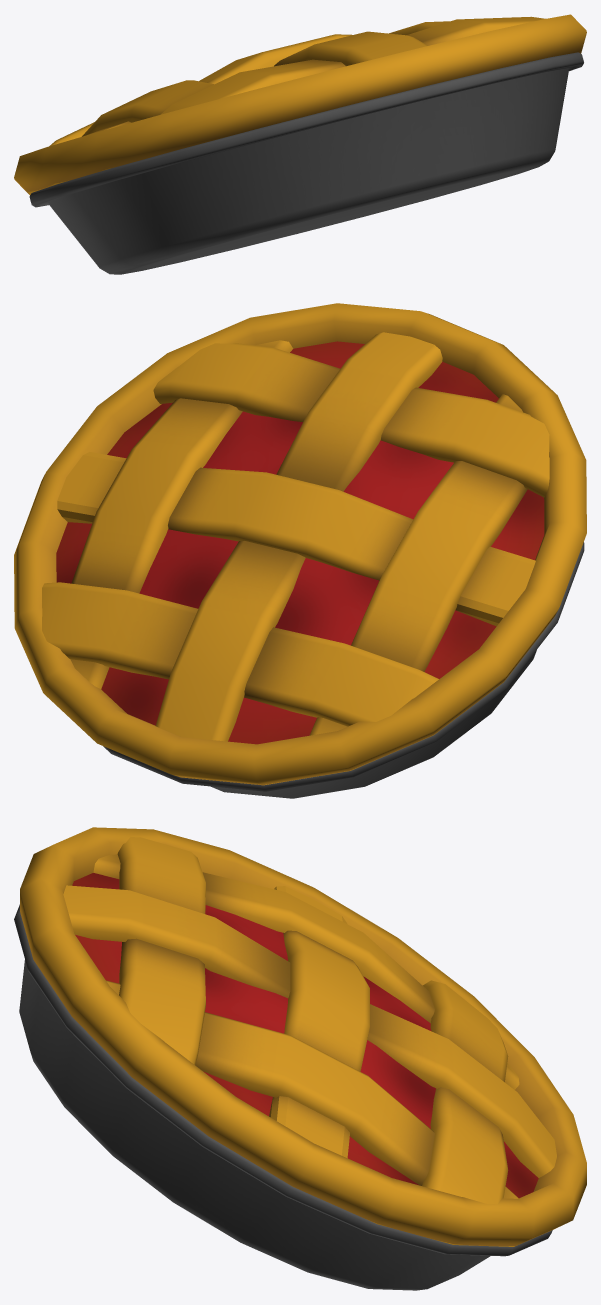
Rendered from pie.fbx.
3 views of the same model, one above another, from view 1: azimuth 30°, elevation 25°; view 2: azimuth 150°, elevation 25°; view 3: azimuth 270°, elevation 25° (orthographic). The views are drawn at different scales.
Visible parts, largest first — view 1: pie; view 2: pie; view 3: pie.
Boxes of the visible parts, box(x1,y1,x2,y2) form: pie: box(14, 14, 586, 274); pie: box(14, 303, 586, 798); pie: box(14, 827, 586, 1290).
Bounding box in the file's own units: 11.81 × 7.4 × 10.34.
